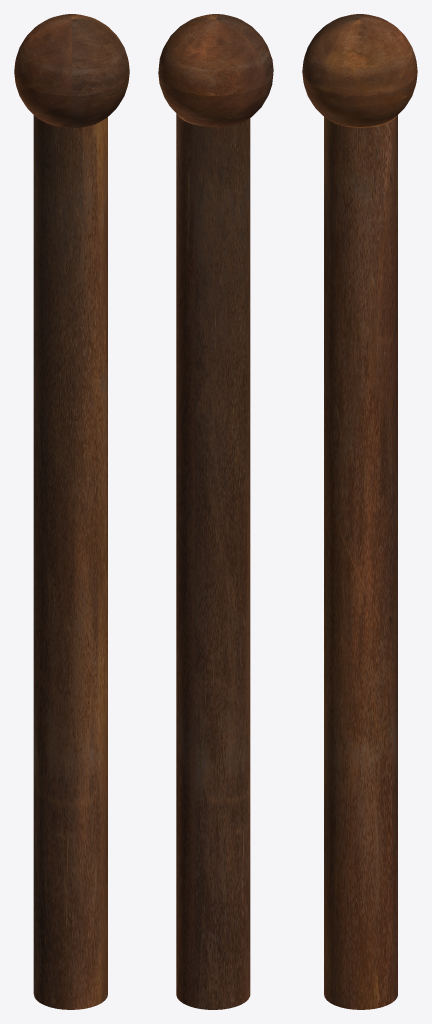
Rendered from tiang-pagar.fbx.
3 renders of one model, left to right at view 1: azimuth 90°, elevation 25°; view 2: azimuth 150°, elevation 25°; view 3: azimuth 270°, elevation 25°, orthographic.
Visible parts, largest first — view 1: Cylinder.002; view 2: Cylinder.002; view 3: Cylinder.002.
Part boxes in pixels (x1,y1,x2,y2): Cylinder.002: (14,14,129,1009); Cylinder.002: (158,14,273,1009); Cylinder.002: (302,14,417,1009).
Bounding box in the file's own units: 21.12 × 197 × 21.12.
Materials: 1 (1 with a texture image).
